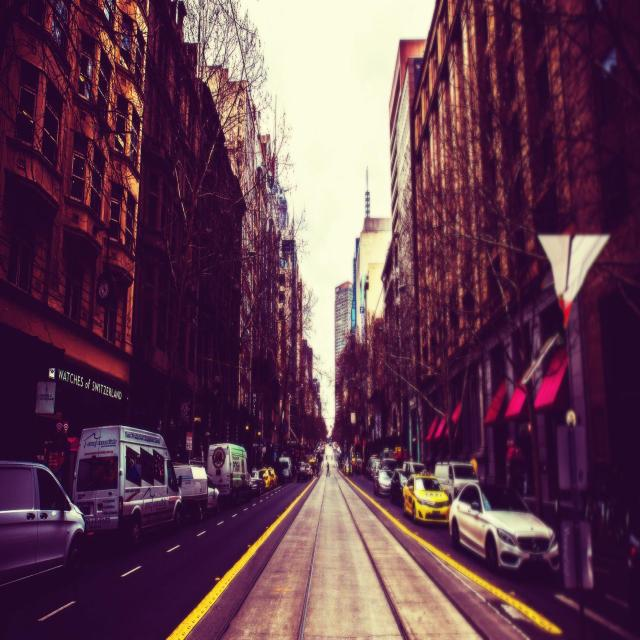airplane: (537, 230, 610, 329)
